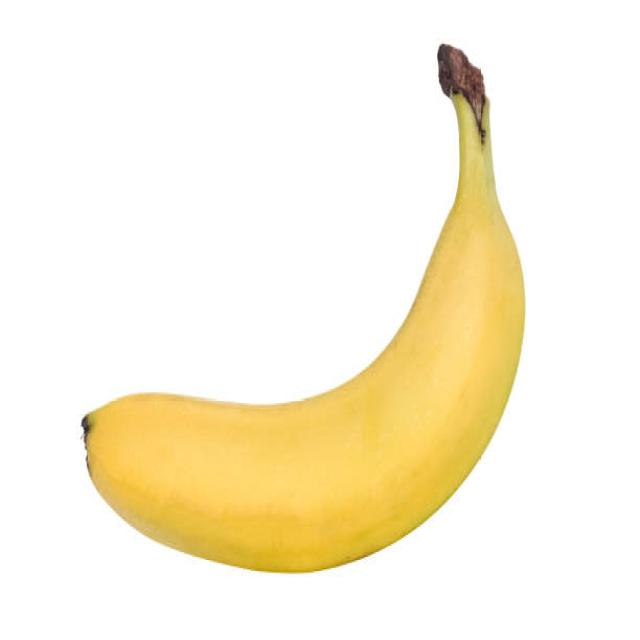Ripe: (76, 94, 528, 574)
